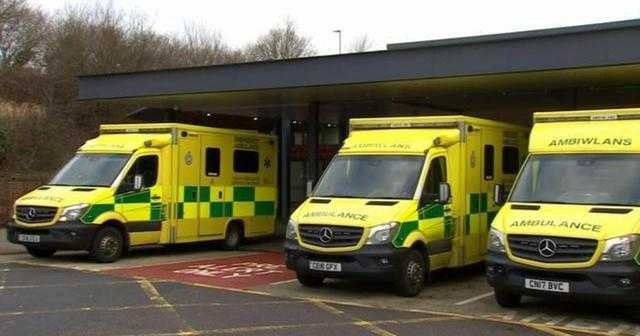Ambulance: (280, 115, 497, 313), (20, 122, 284, 274), (485, 103, 640, 336)
